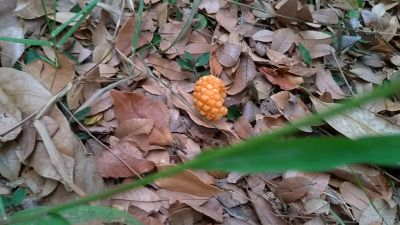eggs: (189, 74, 230, 123)
